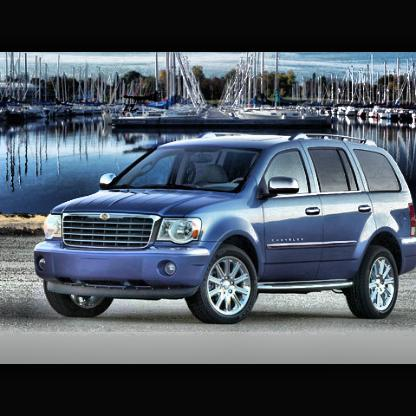Chrysler Aspen SUV 2009: (36, 133, 416, 328)
